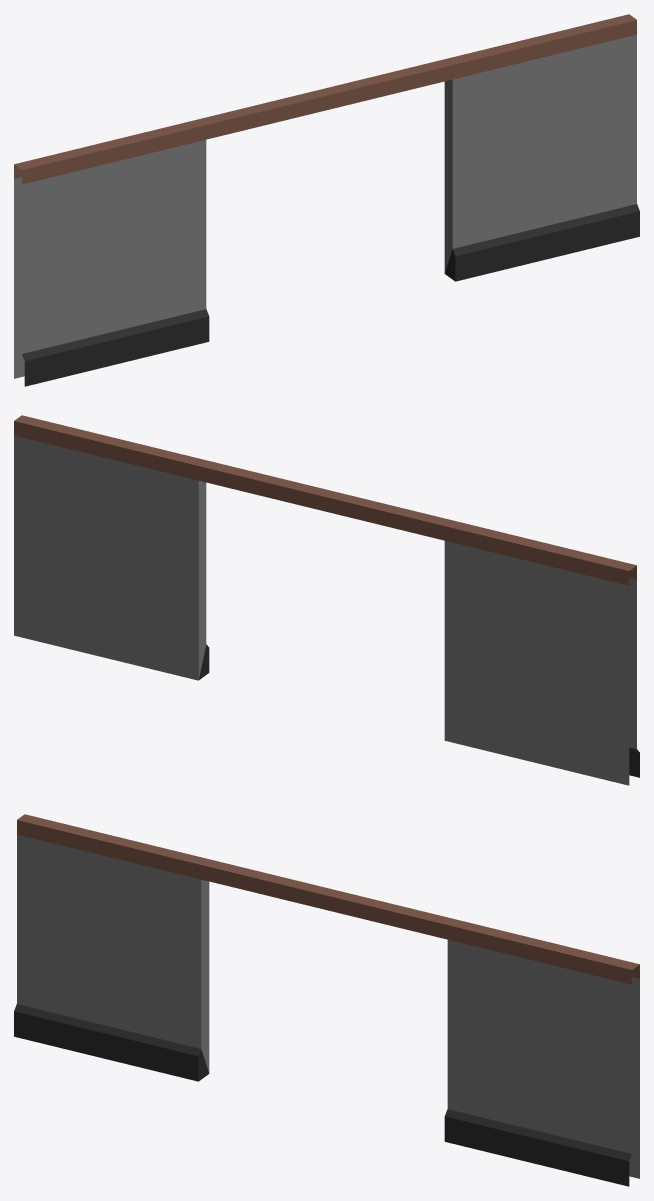
Rendered from Wall3333.fbx.
3 renders of one model, top to bottom at view 1: azimuth 30°, elevation 25°; view 2: azimuth 150°, elevation 25°; view 3: azimuth 330°, elevation 25°, orthographic.
Visible parts, largest first — view 1: Box015; view 2: Box015; view 3: Box015.
Boxes of the visible parts, x1,y1,x2,y2 form: Box015: (14,14,639,386); Box015: (14,415,639,785); Box015: (14,814,639,1186).
Size of the model in its own units: 900 by 300 by 27.18.
